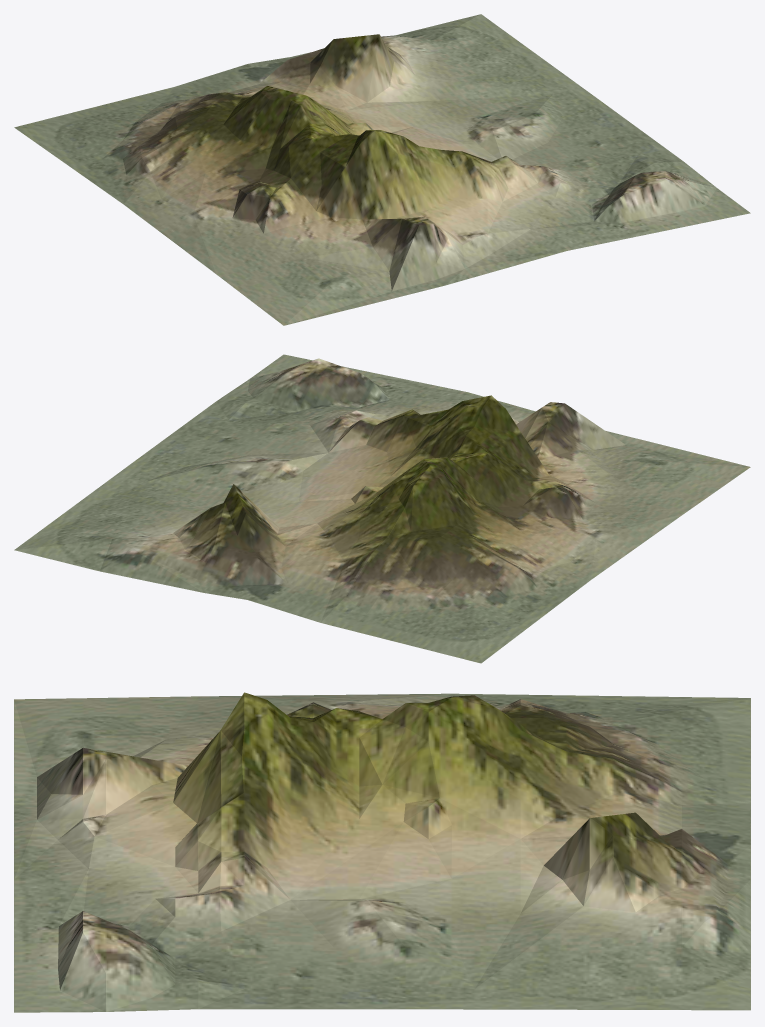
Rendered from F_Island_01.fbx.
3 views of the same model, one above another, from view 1: azimuth 30°, elevation 25°; view 2: azimuth 150°, elevation 25°; view 3: azimuth 270°, elevation 25° (orthographic). The views are drawn at different scales.
Visible parts, largest first — view 1: F_Island_01; view 2: F_Island_01; view 3: F_Island_01.
Part boxes in pixels (x1,y1,x2,y2): F_Island_01: (14,14,750,325); F_Island_01: (14,354,750,663); F_Island_01: (14,692,750,1012).
Size of the model in its own units: 2 by 0.3763 by 2.
1 material, 1 textured.
